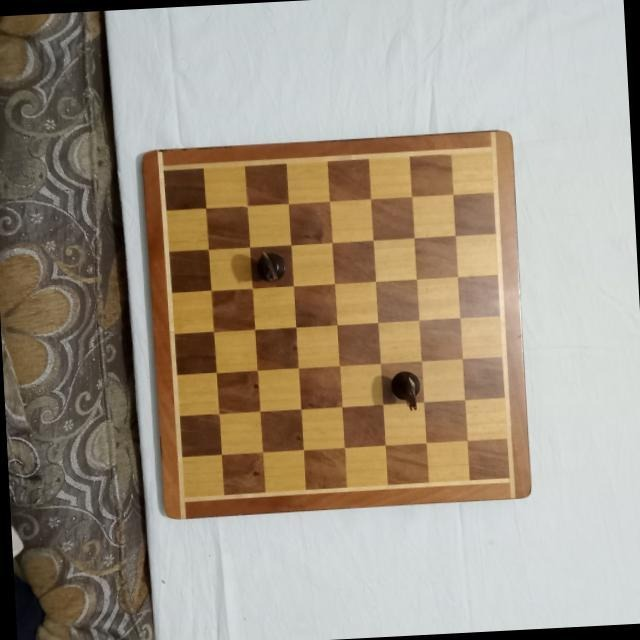black-knight: (389, 368, 423, 413), (253, 249, 287, 285)
